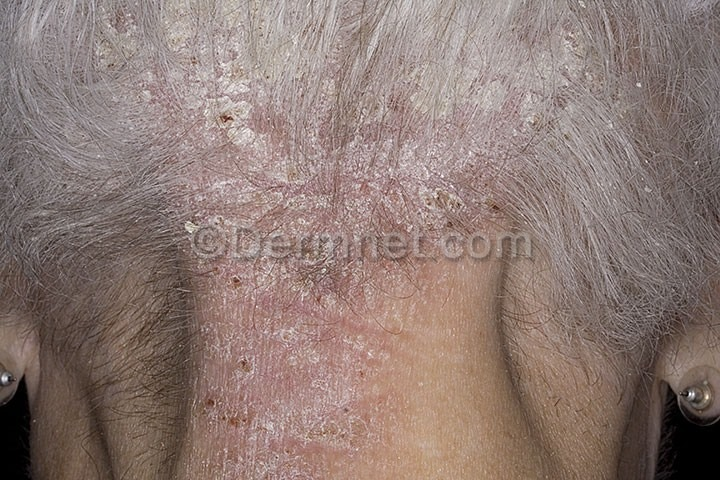Psoriasis: (113, 20, 576, 226), (187, 210, 399, 477)
